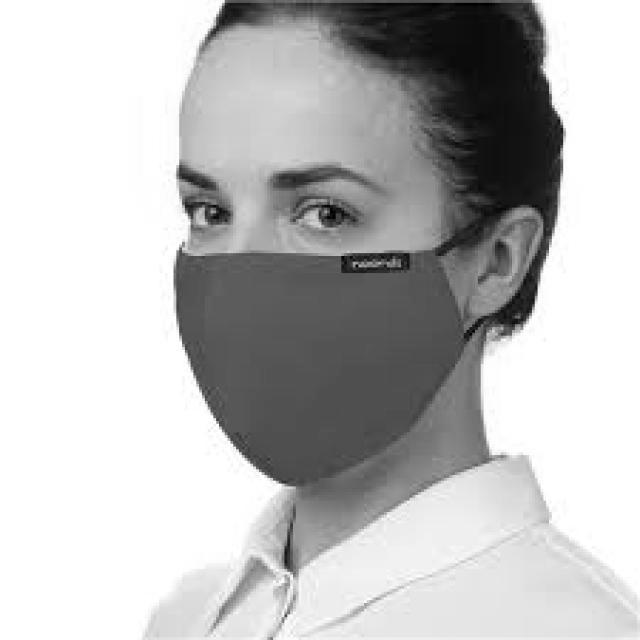fake: (163, 242, 484, 496)
real: (173, 13, 473, 495)
